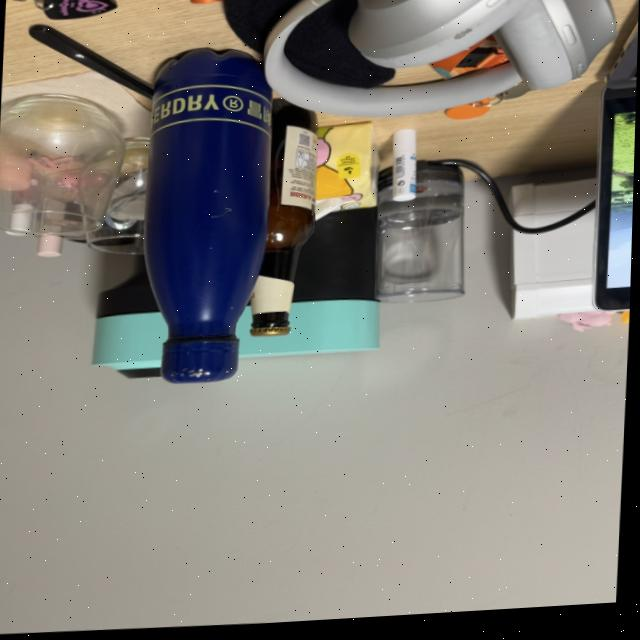beer: (234, 93, 326, 346)
